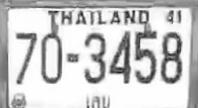0: (40, 30, 62, 83)
3: (82, 32, 106, 83)
4: (108, 30, 130, 83)
5: (134, 29, 156, 83)
7: (14, 32, 36, 84)
8: (160, 31, 181, 83)
LEI: (81, 92, 111, 108)
